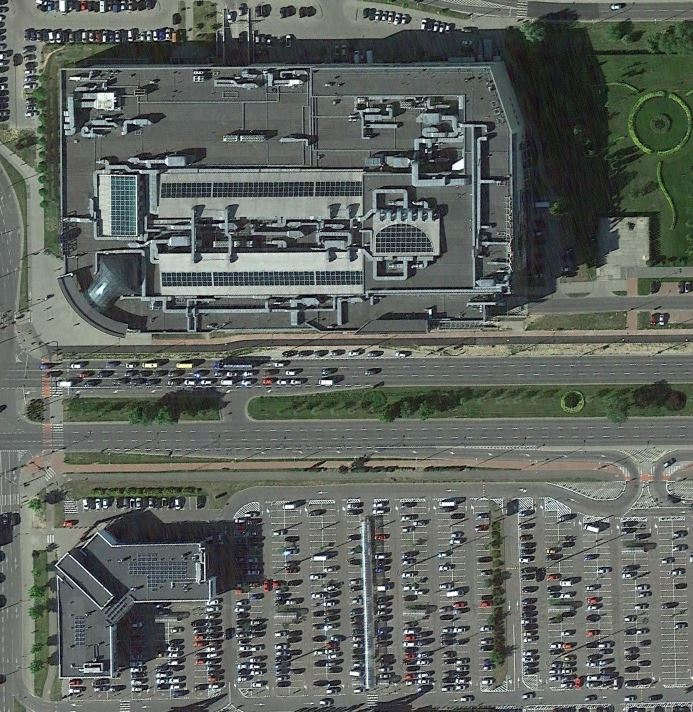block of flats: (55, 524, 221, 684)
shopping_center: (40, 58, 540, 344)
